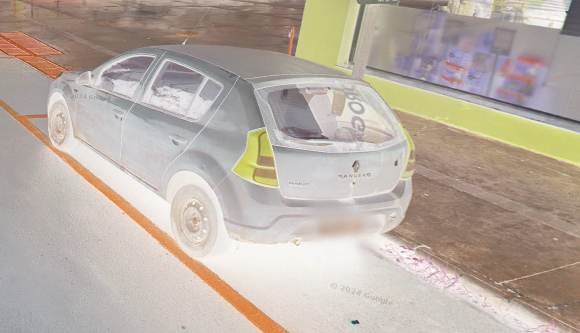car: (44, 6, 422, 261)
